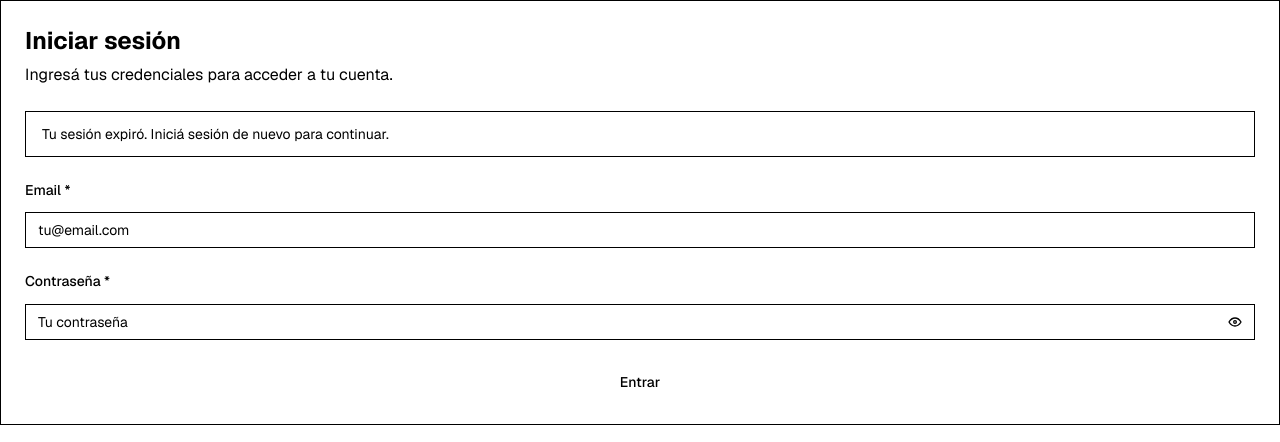
SignInForm — session_expired Alert (D8) › clears the expiry alert before any new error renders on resubmit
Expected: the text "Tu sesión expiró. Iniciá sesión de nuevo para continuar." is shown, [42,125,389,143]
Step 1. Type "operator@viewpro.app" into the field labelled "Email *" → [640, 230], box [25,212,1255,248]
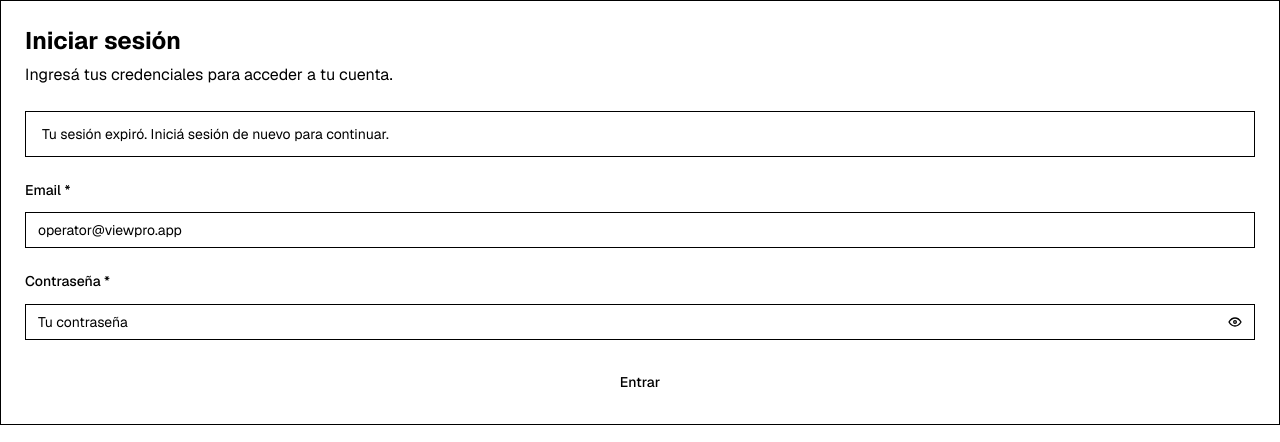
Step 2. Type "password123" into the password field labelled "Contraseña *" → [640, 322], box [25,304,1255,340]
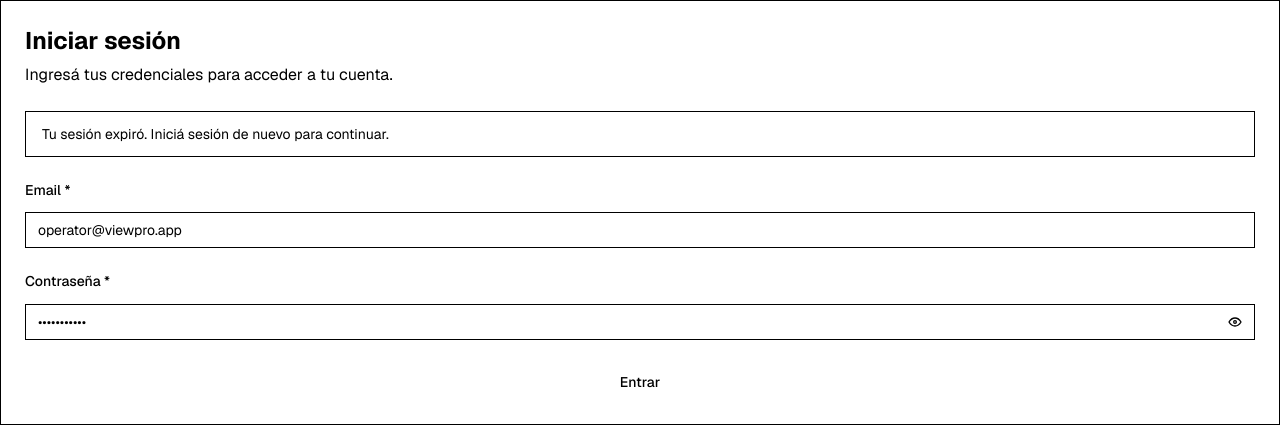
Step 3. Click the button "Entrar" → [640, 382], box [25,364,1255,400]
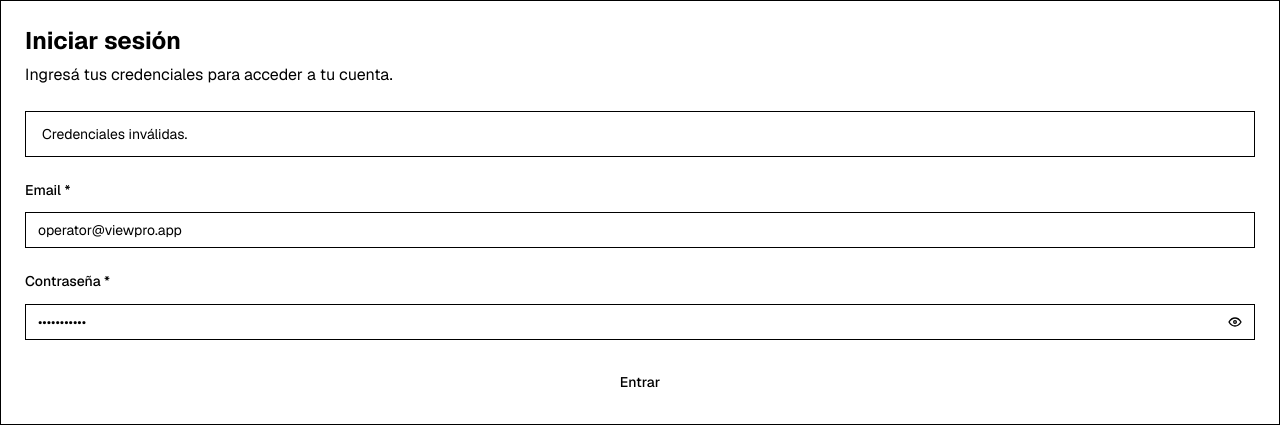
Expected: the text "Credenciales inválidas." is shown, [42,125,187,143]
Expected: the text "Tu sesión expiró. Iniciá sesión de nuevo para continuar." is gone
